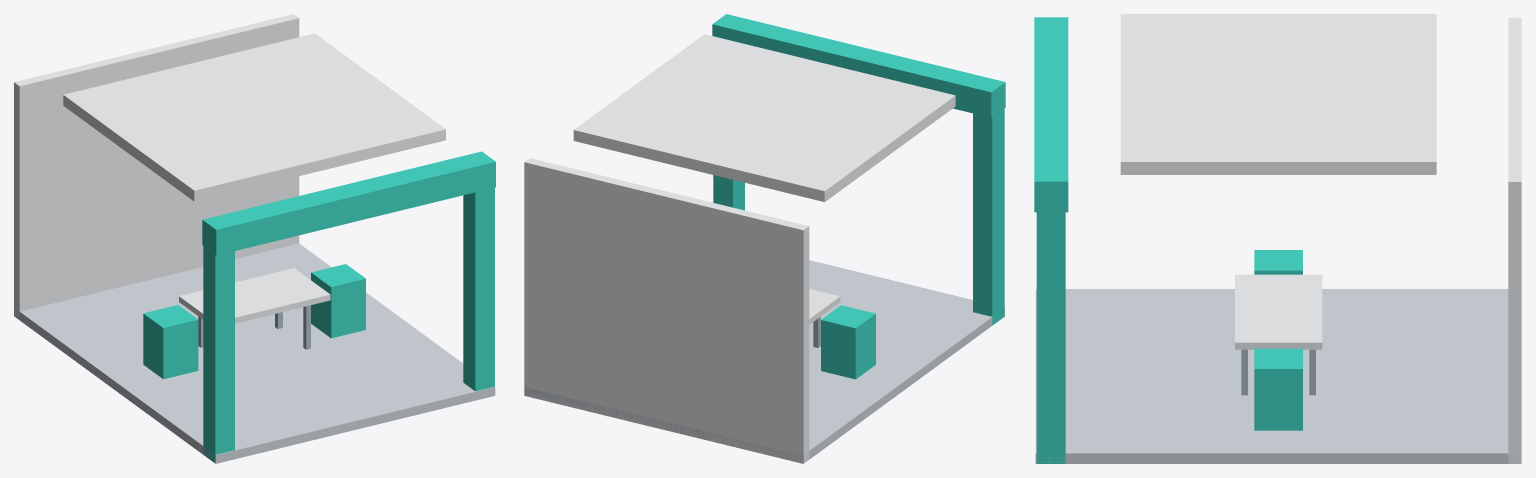
The picture shows the model from 3 angles, left to right: view 1: azimuth 30°, elevation 25°; view 2: azimuth 150°, elevation 25°; view 3: azimuth 270°, elevation 25°; orthographic projection. The views are drawn at different scales.
Parts seen in each view (by area): view 1: Exhibition Booth Concept; view 2: Exhibition Booth Concept; view 3: Exhibition Booth Concept.
Boxes of the visible parts, bbox=[...] form: Exhibition Booth Concept: bbox=[14, 14, 495, 463]; Exhibition Booth Concept: bbox=[524, 14, 1005, 463]; Exhibition Booth Concept: bbox=[1034, 14, 1521, 463].
Size of the model in its own units: 4 by 3.34 by 5.02.
